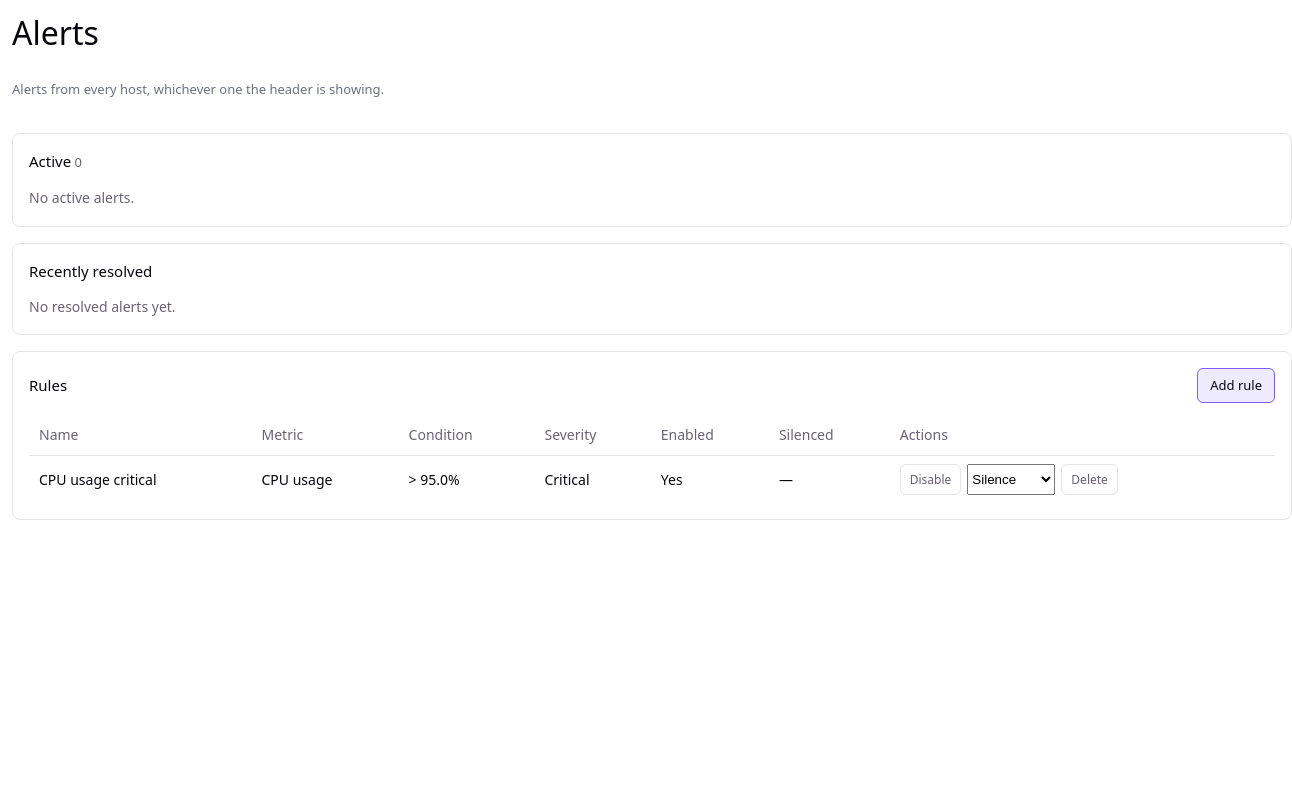
Scenario: AlertsPage rule controls › explains a 403 rather than showing a generic failure
The image size is (1292, 800).
Click the button "Delete" at (1090, 479), box [1061,464,1118,495]
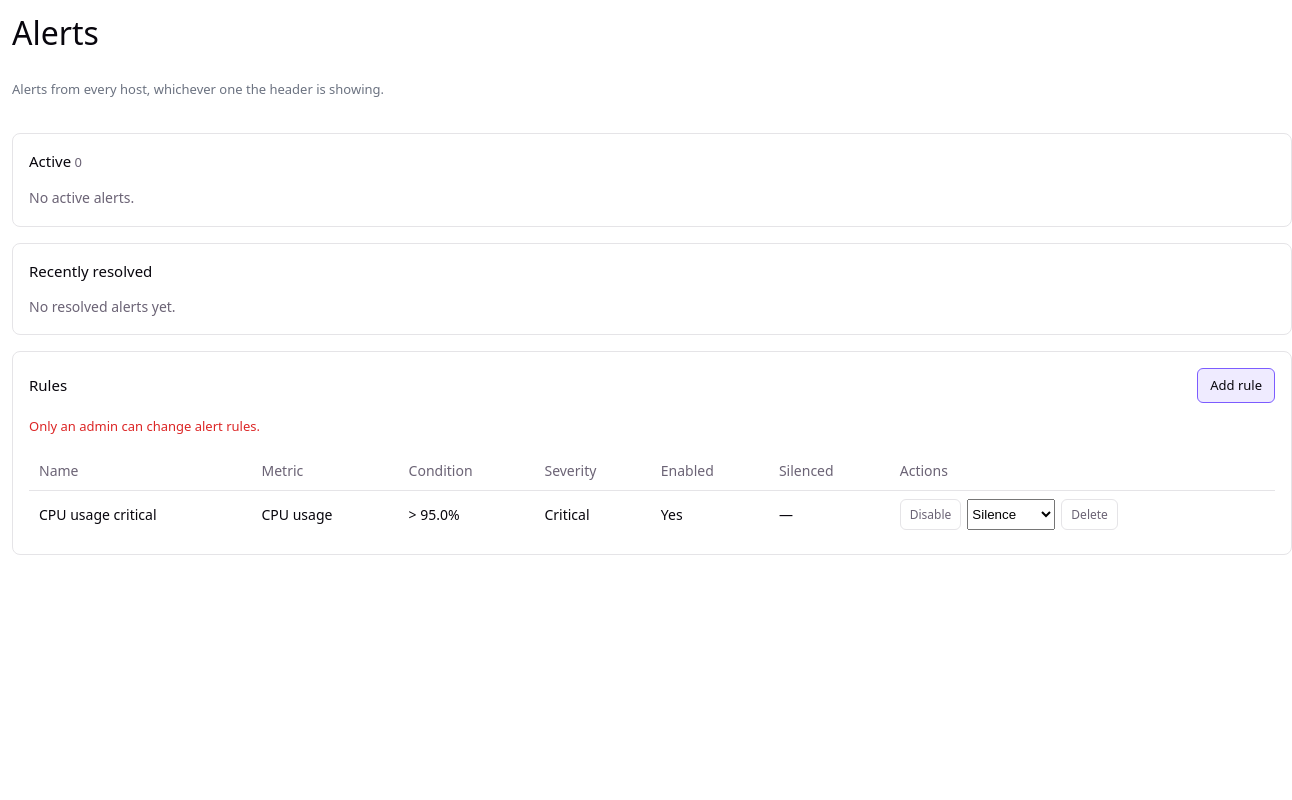
Expected: the message reads "Only an admin can change alert rules.", [29,417,260,435]
